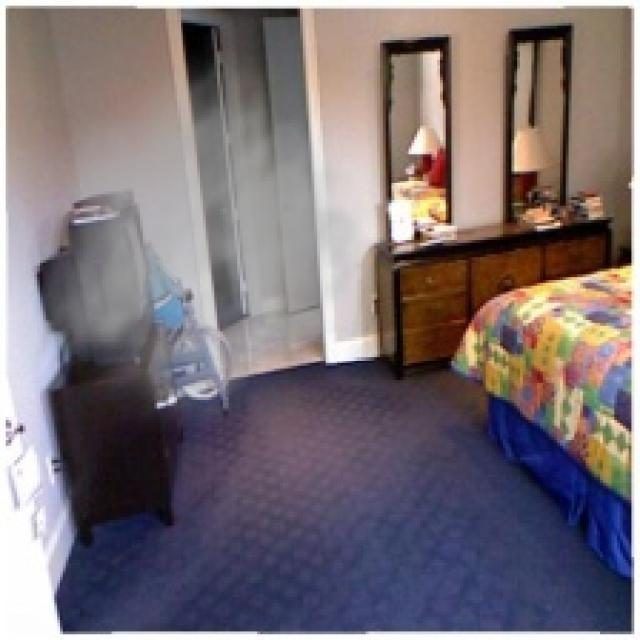Smoke: (43, 43, 400, 440)
